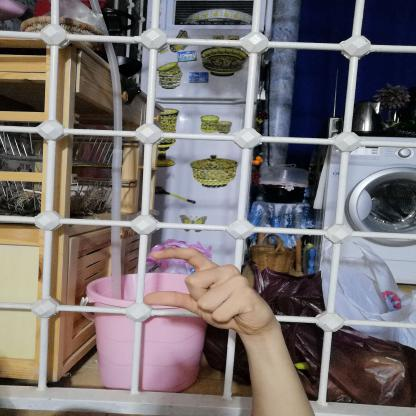DELL: (130, 240, 286, 340)
